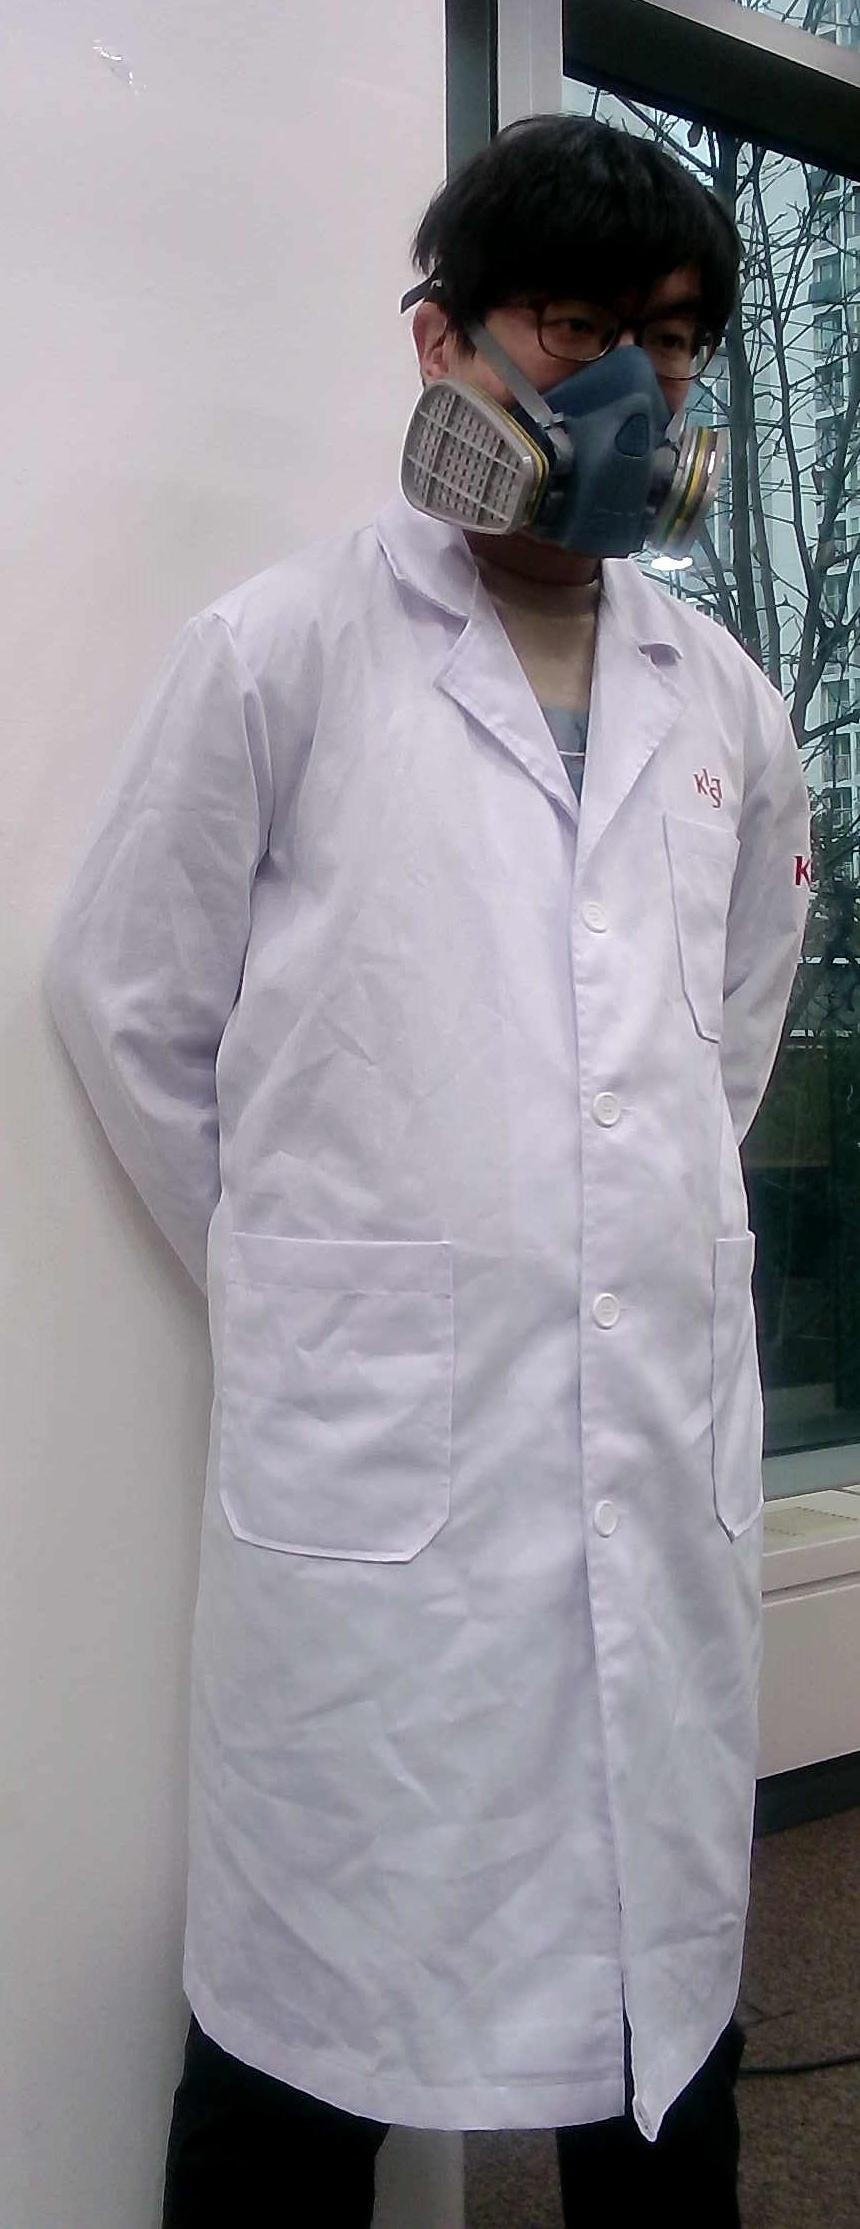lab_coat: (188, 687, 780, 2051)
